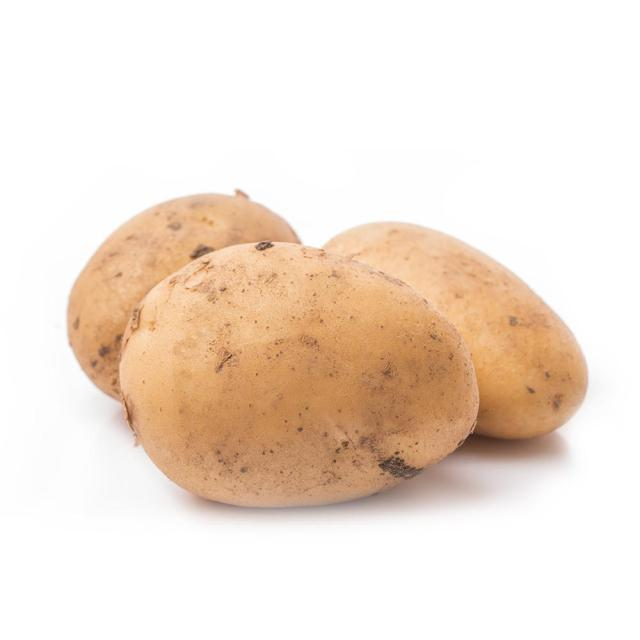Potato: (118, 240, 487, 511), (322, 222, 590, 443), (65, 194, 302, 405)
